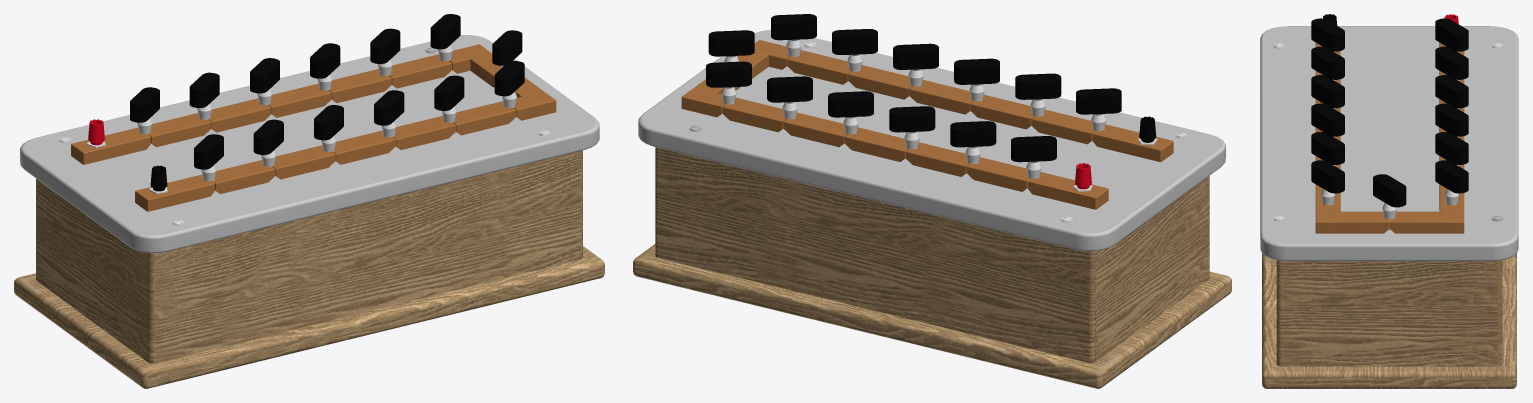
File: Resistance box_Texture.fbx
3 renders of one model, left to right at view 1: azimuth 30°, elevation 25°; view 2: azimuth 150°, elevation 25°; view 3: azimuth 270°, elevation 25°, orthographic. The views are drawn at different scales.
Visible parts, largest first — view 1: pCube1, pCube2, pCube26, pCube5, pCube7, pCube34, pCube38, pCube24, pCube33, pCube32, pCube35, pCube31 (+18 smaller); view 2: pCube1, pCube2, pCube5, pCube26, pCube35, pCube32, pCube33, pCube37, pCube38, pCube34, pCube24, pCube36 (+17 smaller); view 3: pCube2, pCube1, polySurface2, pCube29, pCube27.006, pCube6.005, pCube27.002, pCube27.001, pCube27.004, pCube6.003, pCube27, pCube6.002 (+7 smaller).
Boxes of the visible parts, x1,y1,x2,y2 form: pCube1: (14, 150, 604, 388); pCube2: (20, 35, 599, 252); pCube26: (135, 174, 214, 211); pCube5: (71, 127, 150, 164); pCube7: (148, 113, 211, 147); pCube34: (332, 130, 395, 164); pCube38: (453, 101, 516, 135); pCube24: (212, 160, 275, 194); pCube33: (268, 84, 331, 117); pCube32: (272, 145, 335, 179); pCube35: (328, 69, 391, 102); pCube31: (208, 98, 271, 132); pCube1: (633, 147, 1231, 388); pCube2: (638, 30, 1225, 251); pCube5: (1028, 172, 1108, 209); pCube26: (1092, 124, 1173, 162); pCube35: (783, 112, 847, 147); pCube32: (970, 94, 1034, 129); pCube33: (844, 127, 908, 161); pCube37: (722, 97, 786, 132); pCube38: (787, 50, 851, 84); pCube34: (909, 80, 973, 114); pCube24: (1031, 109, 1095, 144); pCube36: (848, 65, 912, 99); pCube2: (1260, 26, 1518, 261); pCube1: (1262, 253, 1516, 388); polySurface2: (1389, 211, 1440, 233); pCube29: (1339, 211, 1389, 233); pCube27.006: (1311, 160, 1344, 193); pCube6.005: (1435, 160, 1468, 193); pCube27.002: (1373, 174, 1406, 207); pCube27.001: (1311, 46, 1344, 79); pCube27.004: (1311, 103, 1344, 136); pCube6.003: (1435, 103, 1468, 136); pCube27: (1311, 18, 1344, 51); pCube6.002: (1435, 75, 1468, 108).
Bounding box in the file's own units: 474 × 193 × 235.
